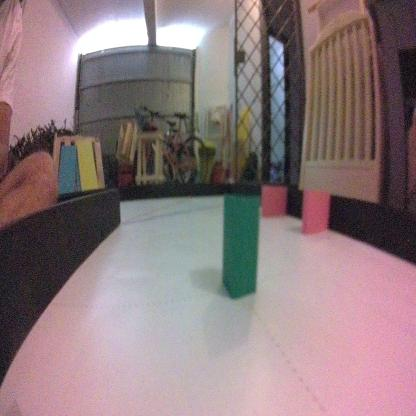green: (219, 194, 258, 296)
magenta: (298, 185, 334, 242), (260, 180, 286, 222)
